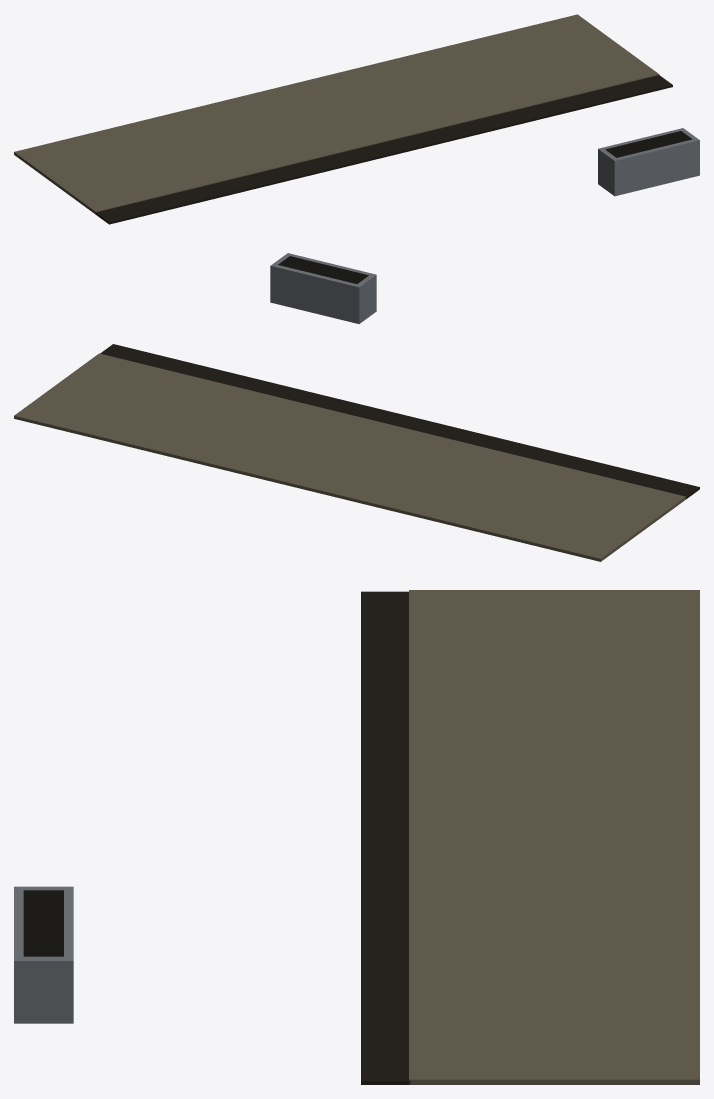
File: DressingPlain.fbx
3 renders of one model, top to bottom at view 1: azimuth 30°, elevation 25°; view 2: azimuth 150°, elevation 25°; view 3: azimuth 270°, elevation 25°, orthographic. The views are drawn at different scales.
Visible parts, largest first — view 1: DressingPlain; view 2: DressingPlain; view 3: DressingPlain.
Boxes of the visible parts, box(x1,y1,x2,y2) form: DressingPlain: box(14, 14, 699, 224); DressingPlain: box(14, 253, 699, 561); DressingPlain: box(14, 590, 699, 1084).
Bounding box in the file's own units: 1202 × 72.5 × 712.
Materials: 4 (4 with a texture image).
